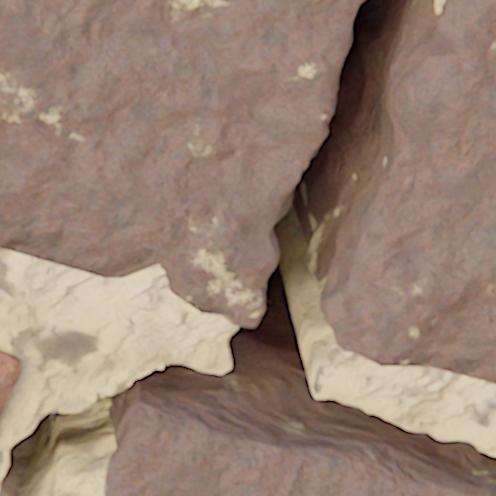brick: (103, 400, 495, 495), (0, 349, 21, 416)
broken_brick: (0, 0, 363, 327), (326, 0, 495, 383)
crack: (0, 0, 495, 495), (144, 257, 177, 286), (139, 367, 145, 372)
